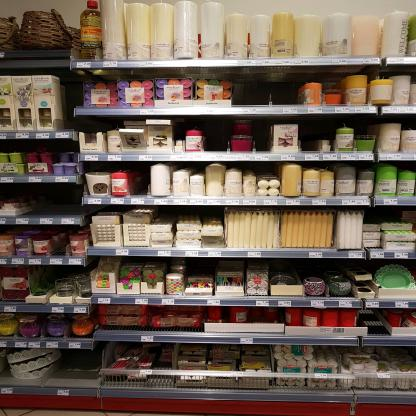Void: (235, 70, 296, 102), (32, 186, 78, 214), (59, 353, 98, 385), (158, 206, 219, 220), (204, 117, 225, 151), (131, 165, 150, 194), (301, 114, 316, 150), (71, 119, 114, 129), (368, 208, 399, 221), (256, 120, 268, 148), (33, 270, 54, 286), (247, 161, 276, 172), (355, 117, 371, 133)
